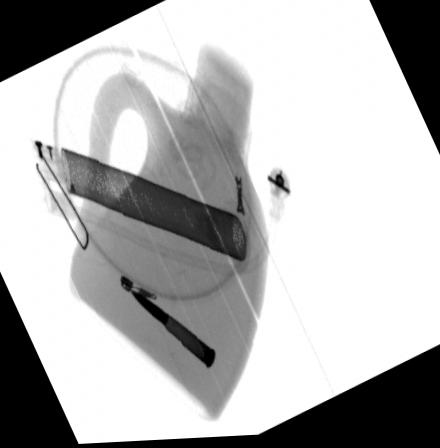Bullet: (128, 290, 216, 371)
